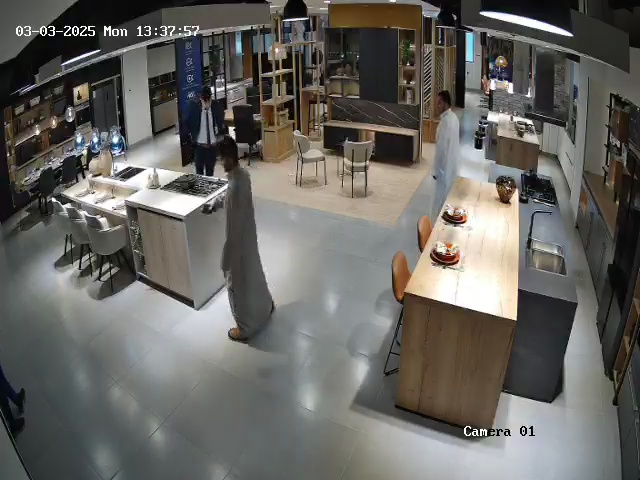employee: (186, 86, 226, 177)
male: (217, 135, 276, 343), (430, 90, 461, 221)
